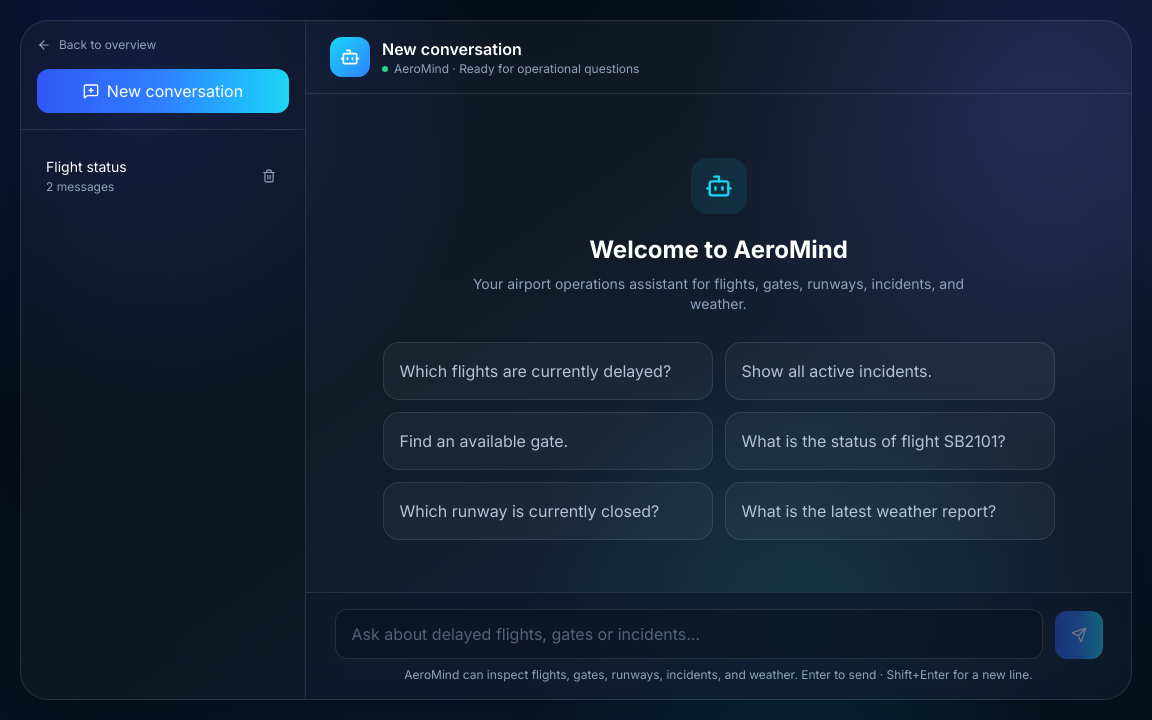
Test: ChatPage Drogon integration › loads C++ conversation history and stored metadata
This screenshot has width=1152, height=720.
Click the text "Flight status": [86, 166] box [46,158,127,175]
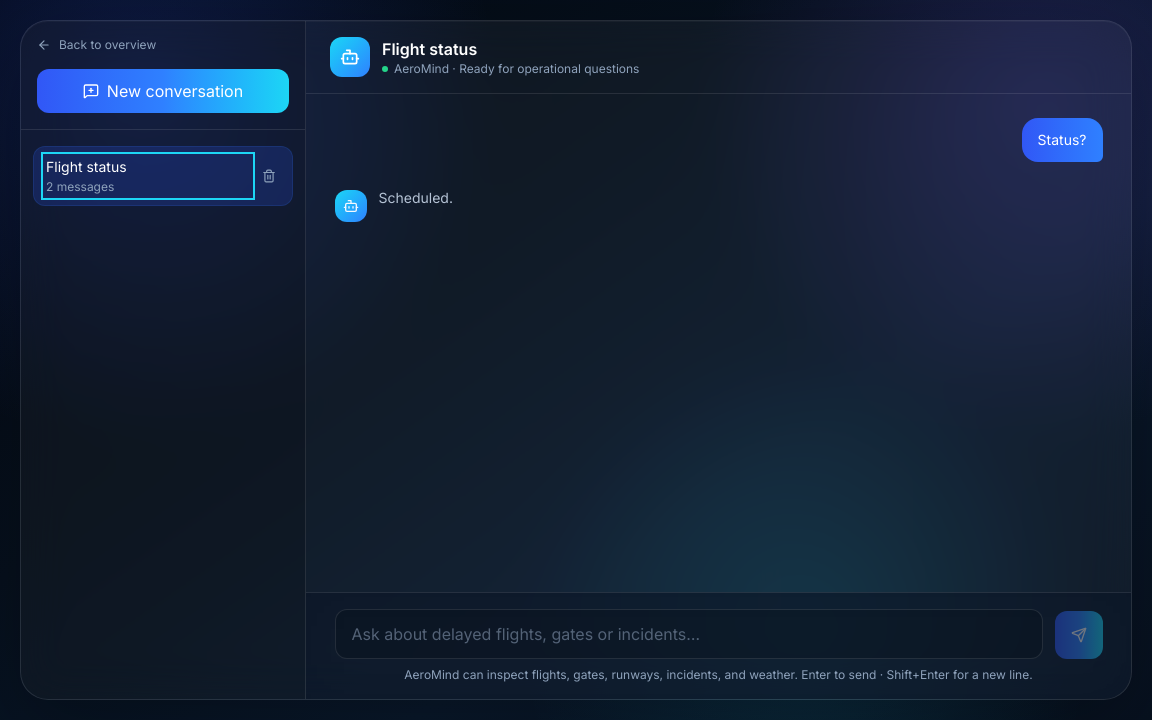
Expected: the text "Scheduled." is shown, [378,189,453,206]
